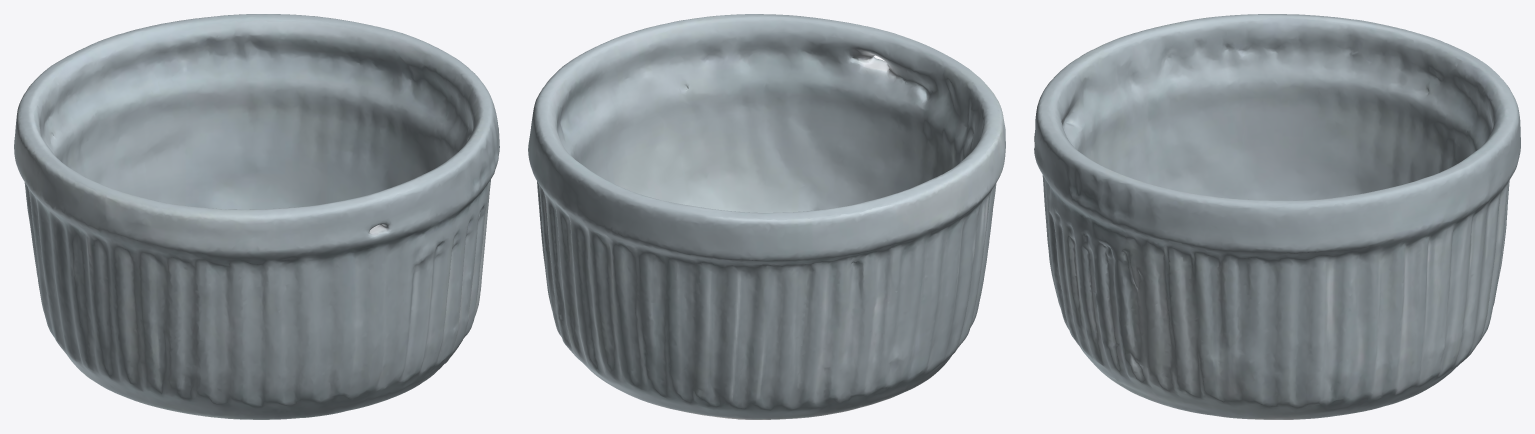
Rendered from Utana_5_Porcelain_Ramekin_Large.glb.
The picture shows the model from 3 angles, left to right: view 1: azimuth 30°, elevation 25°; view 2: azimuth 150°, elevation 25°; view 3: azimuth 270°, elevation 25°; orthographic projection.
Parts seen in each view (by area): view 1: geometry_0; view 2: geometry_0; view 3: geometry_0.
Part boxes in pixels (bbox=[...]): geometry_0: bbox=[14, 14, 499, 419]; geometry_0: bbox=[528, 14, 1005, 419]; geometry_0: bbox=[1034, 14, 1520, 419].
Bounding box in the file's own units: 0.966 × 0.5192 × 0.9675.
1 material, 1 textured.
